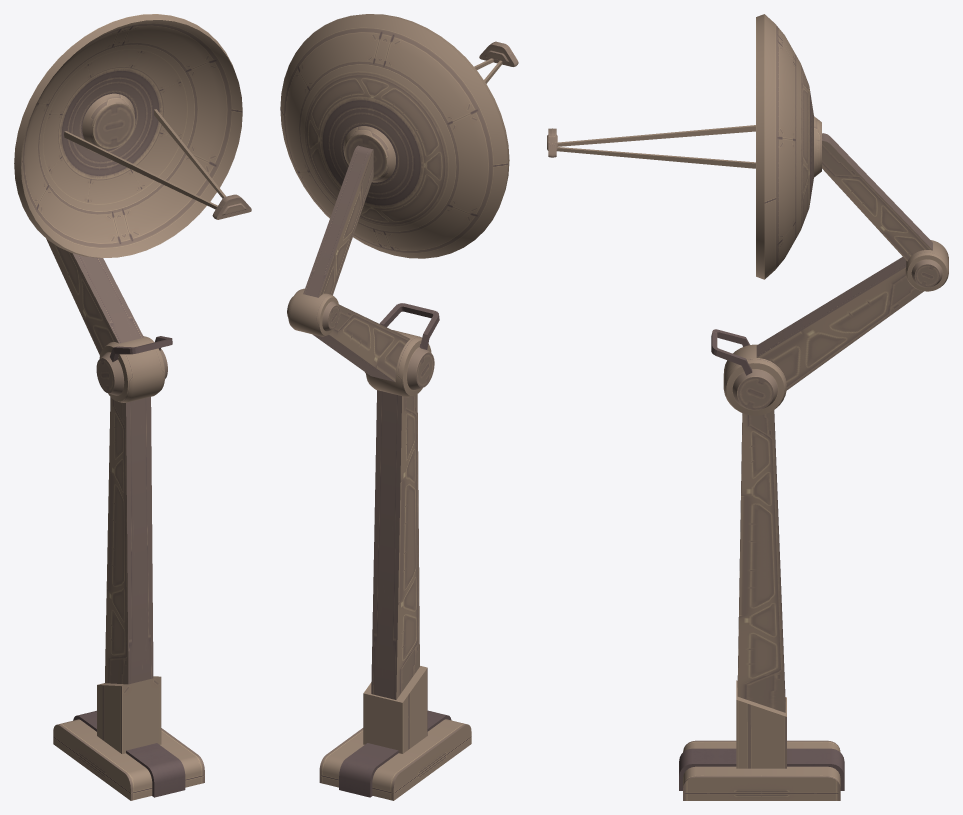
The model's file is Prop_SatelliteDish.gltf.
The picture shows the model from 3 angles, left to right: view 1: azimuth 30°, elevation 25°; view 2: azimuth 150°, elevation 25°; view 3: azimuth 270°, elevation 25°; orthographic projection.
Visible parts, largest first — view 1: Prop_SatelliteDish; view 2: Prop_SatelliteDish; view 3: Prop_SatelliteDish.
Boxes of the visible parts, bbox=[...] form: Prop_SatelliteDish: bbox=[14, 14, 251, 800]; Prop_SatelliteDish: bbox=[280, 14, 518, 800]; Prop_SatelliteDish: bbox=[547, 14, 948, 800].
Size of the model in its own units: 1.84 by 5.79 by 2.78.
Materials: 3 (3 with a texture image).
